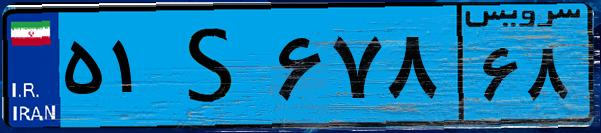1: (110, 28, 158, 98)
5: (57, 26, 110, 100)
6: (270, 28, 330, 110), (475, 38, 525, 113)
7: (330, 28, 385, 110)
8: (385, 28, 445, 110), (525, 38, 570, 115)
S: (158, 12, 270, 120)
